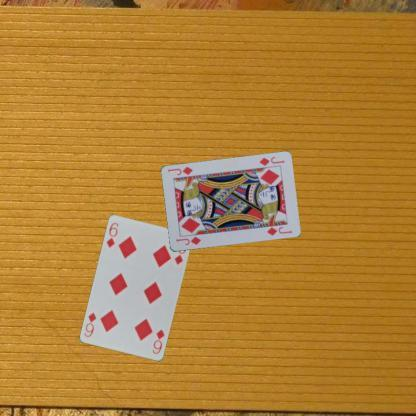6d: (150, 326, 166, 356), (104, 220, 120, 249)
Jd: (256, 154, 286, 168), (173, 234, 202, 247)
